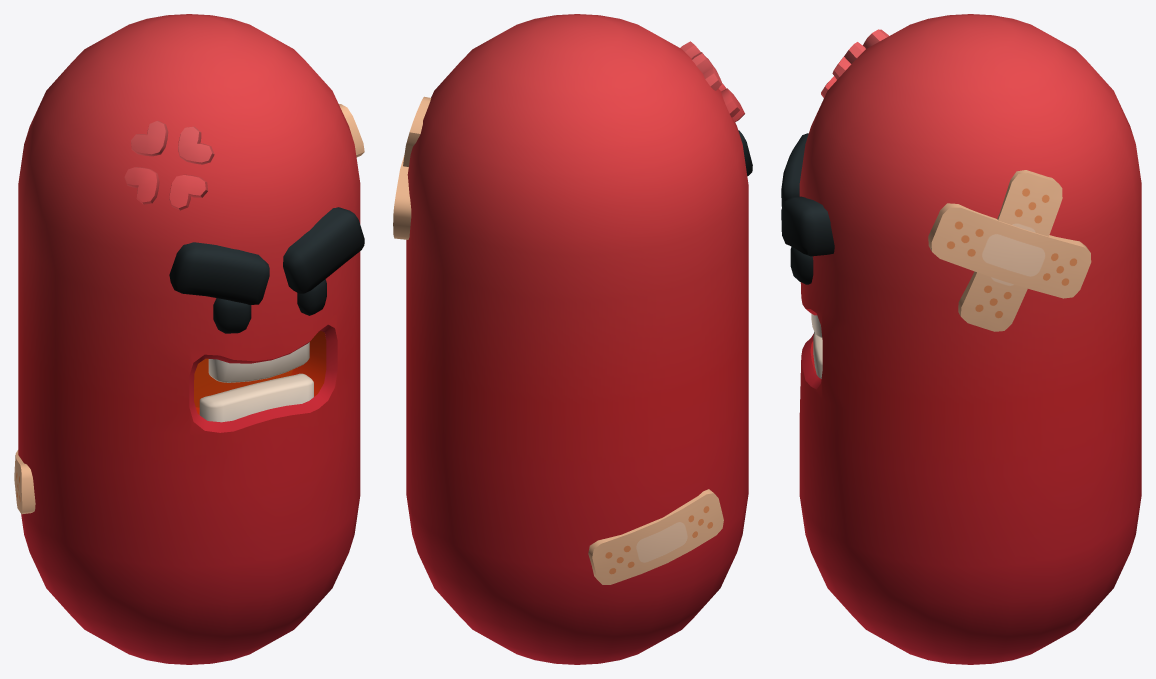
The model's file is enemy.obj.
The picture shows the model from 3 angles, left to right: view 1: azimuth 30°, elevation 25°; view 2: azimuth 150°, elevation 25°; view 3: azimuth 270°, elevation 25°; orthographic projection.
Visible parts, largest first — view 1: enemy_Sphere.056; view 2: enemy_Sphere.056; view 3: enemy_Sphere.056.
Boxes of the visible parts, <box> form: enemy_Sphere.056: <box>14,14,364,664</box>; enemy_Sphere.056: <box>393,14,752,664</box>; enemy_Sphere.056: <box>781,14,1141,664</box>.
Bounding box in the file's own units: 1.06 × 2 × 1.05.
1 material, 1 textured.
